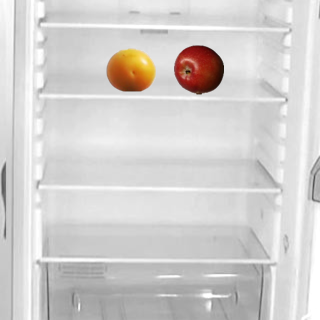Apple Braeburn: (173, 44, 223, 94)
Cherry Wax Yellow: (105, 44, 155, 94)
